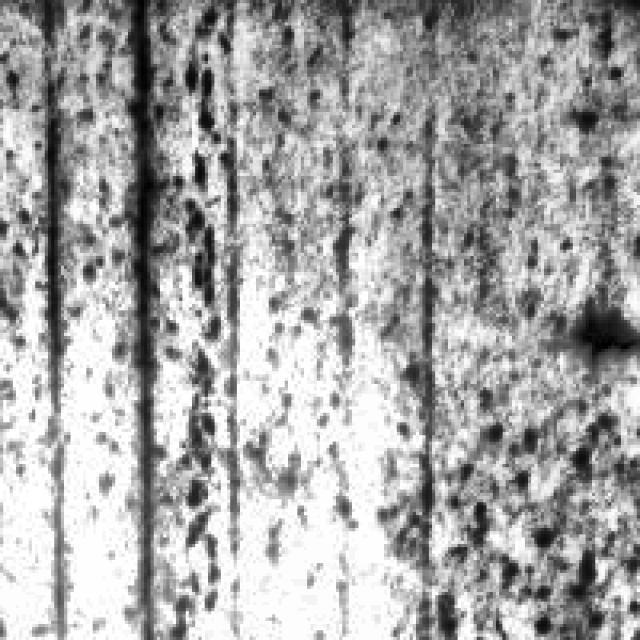Patches: (560, 291, 637, 368)
Rolled_in_Scale: (150, 7, 327, 630), (362, 358, 634, 637)
